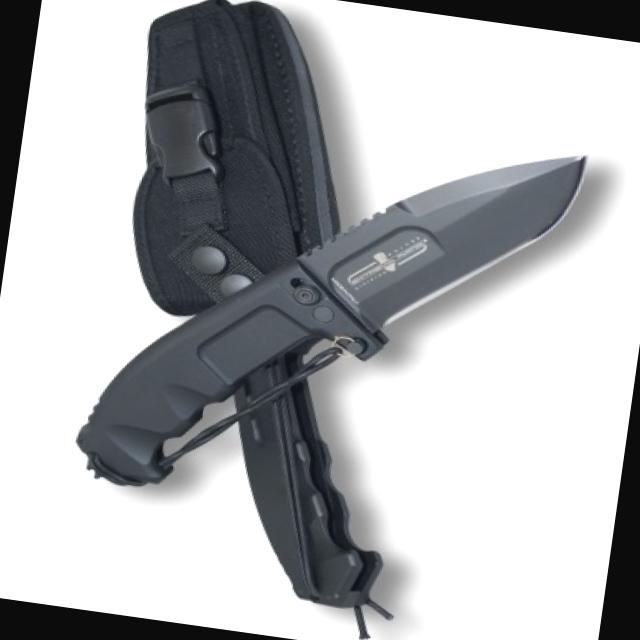knife: (279, 106, 607, 374)
